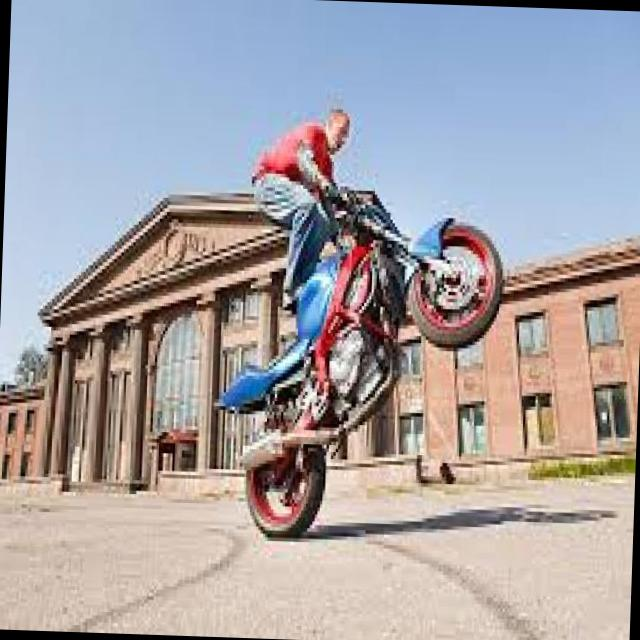Wheeling: (228, 99, 509, 548)
